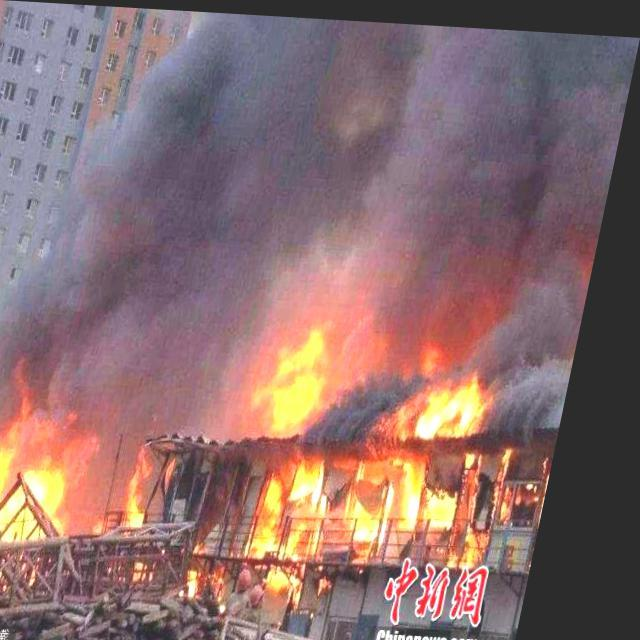Fire: (247, 320, 544, 566), (0, 353, 120, 546), (138, 440, 178, 531)
